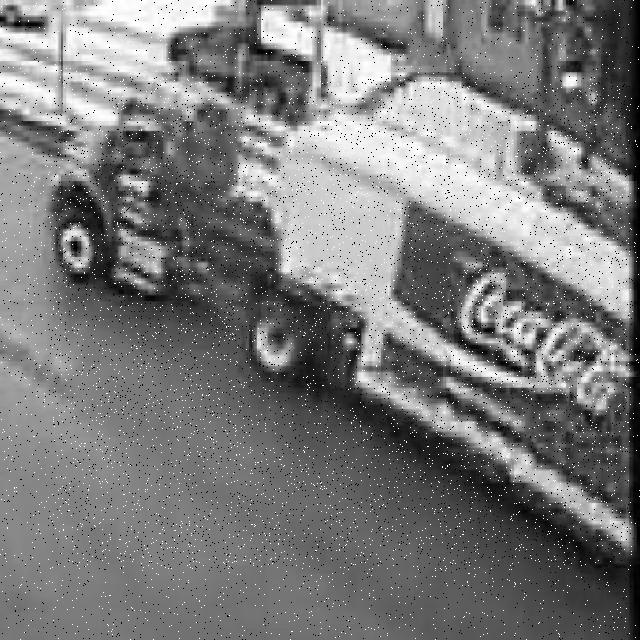Box Truck: (51, 77, 631, 569)
